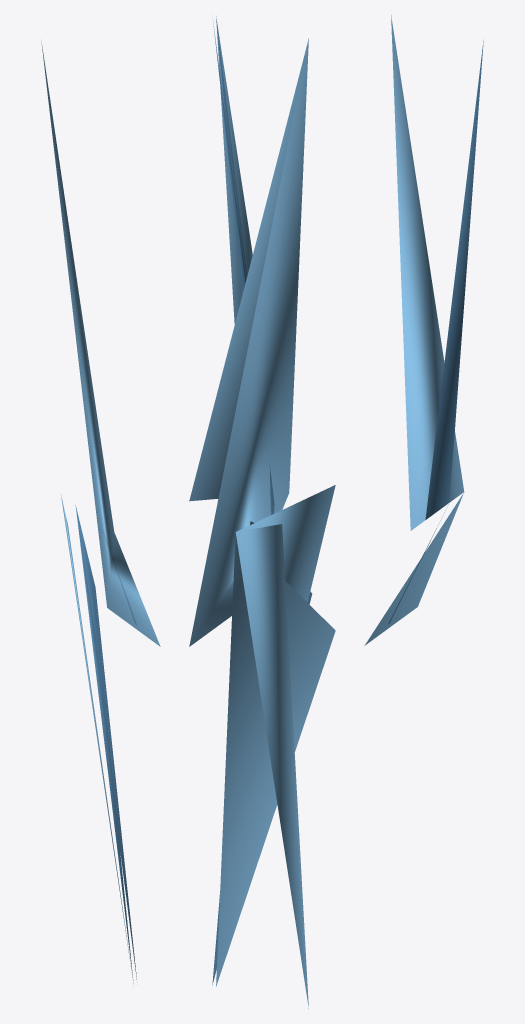
The model's file is equip_head_rune_full_helm.glb.
The picture shows the model from 3 angles, left to right: view 1: azimuth 30°, elevation 25°; view 2: azimuth 150°, elevation 25°; view 3: azimuth 330°, elevation 25°; orthographic projection.
Parts seen in each view (by area): view 1: equip_head_rune_full_helm; view 2: equip_head_rune_full_helm; view 3: equip_head_rune_full_helm.
Boxes of the visible parts, <box> form: equip_head_rune_full_helm: <box>41,41,160,983</box>; equip_head_rune_full_helm: <box>189,16,335,1008</box>; equip_head_rune_full_helm: <box>364,15,483,645</box>.
Bounding box in the file's own units: 0.208 × 2 × 0.208.
